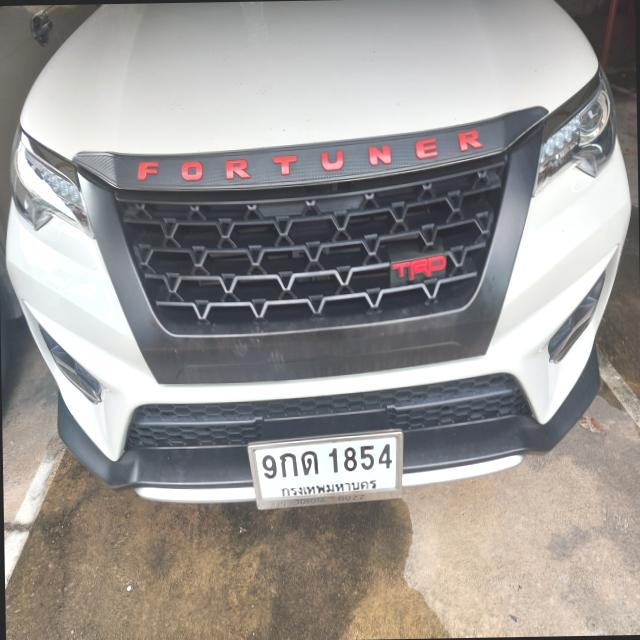license_plate: (246, 422, 409, 513)
